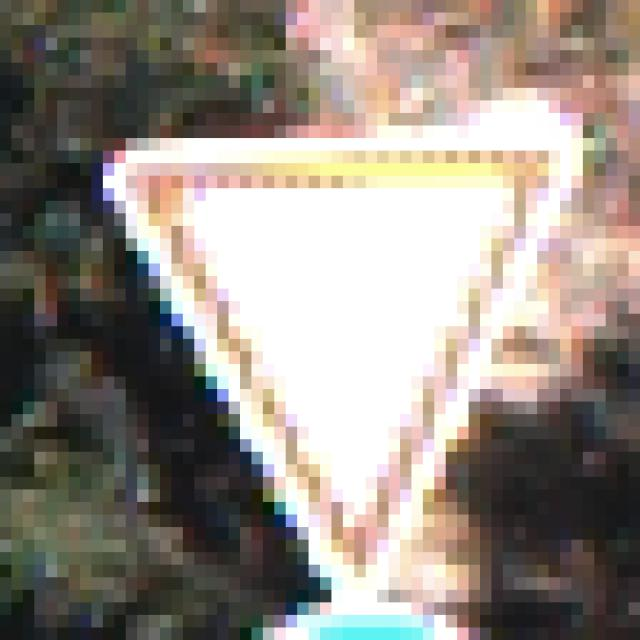Give Way: (70, 76, 573, 566)
